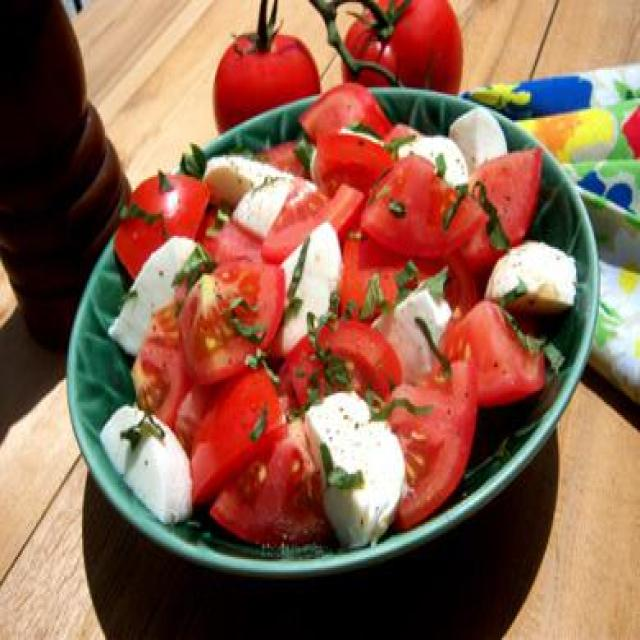Tomato: (367, 150, 490, 256), (179, 260, 288, 365), (383, 380, 468, 513), (187, 378, 281, 497), (283, 320, 397, 406), (441, 302, 536, 403)
